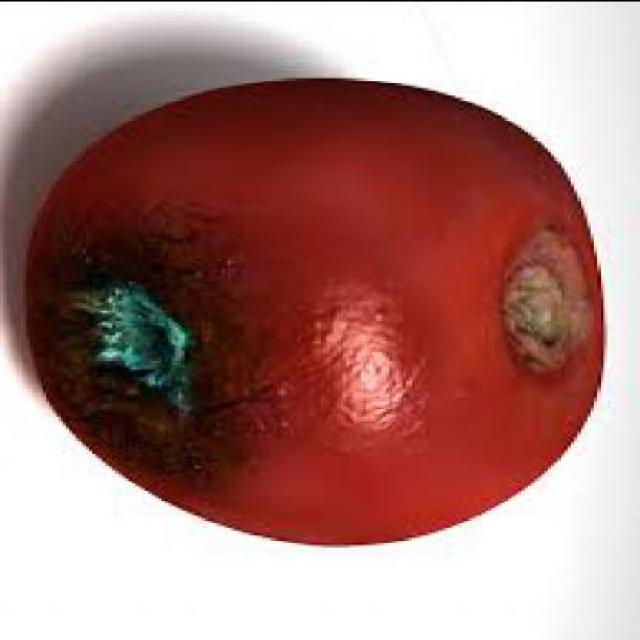BIODEGRADABLE: (23, 69, 611, 543)
